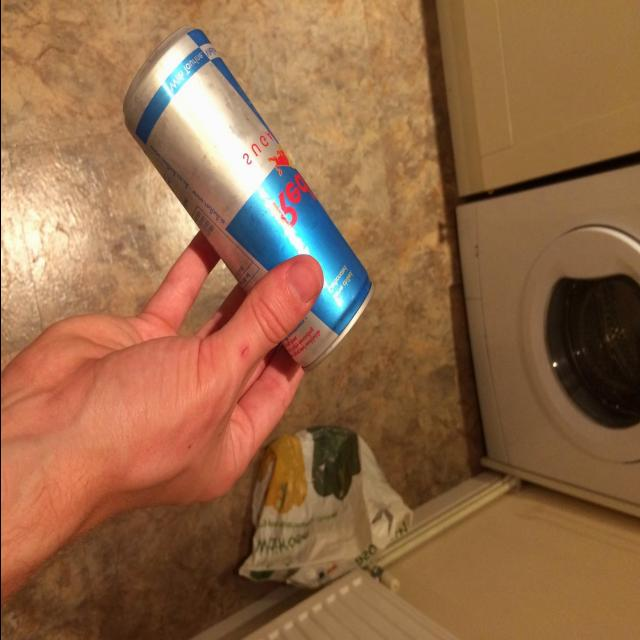Drink can: (122, 26, 373, 373)
Single-use carrier bag: (239, 425, 410, 588)
